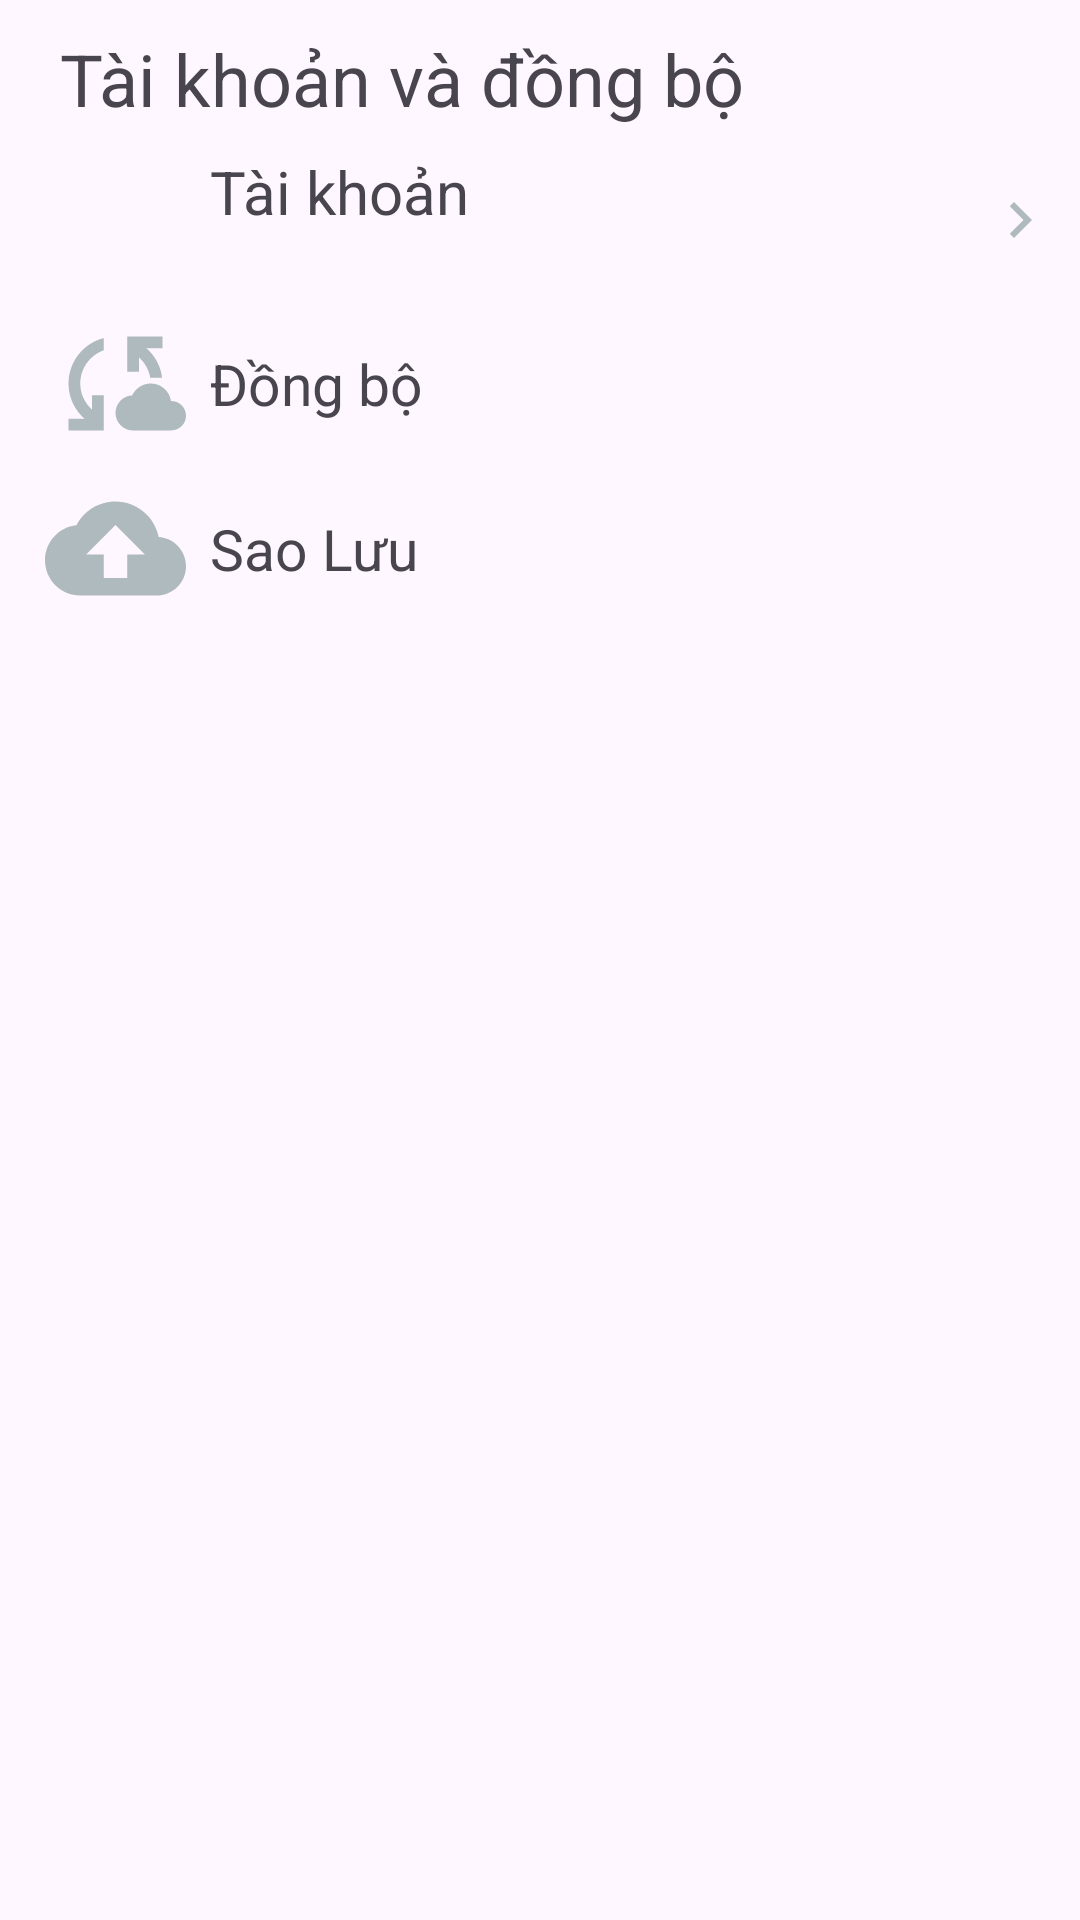

Icon bounding boxes for this 1080 x 1920 phone screenshot, format [left=x1, top=y1, right=x2, bottom=y2]:
chevron right: [left=1010, top=202, right=1032, bottom=238]
cloud sync: [left=68, top=336, right=186, bottom=431]
cloud upload: [left=45, top=501, right=186, bottom=596]
